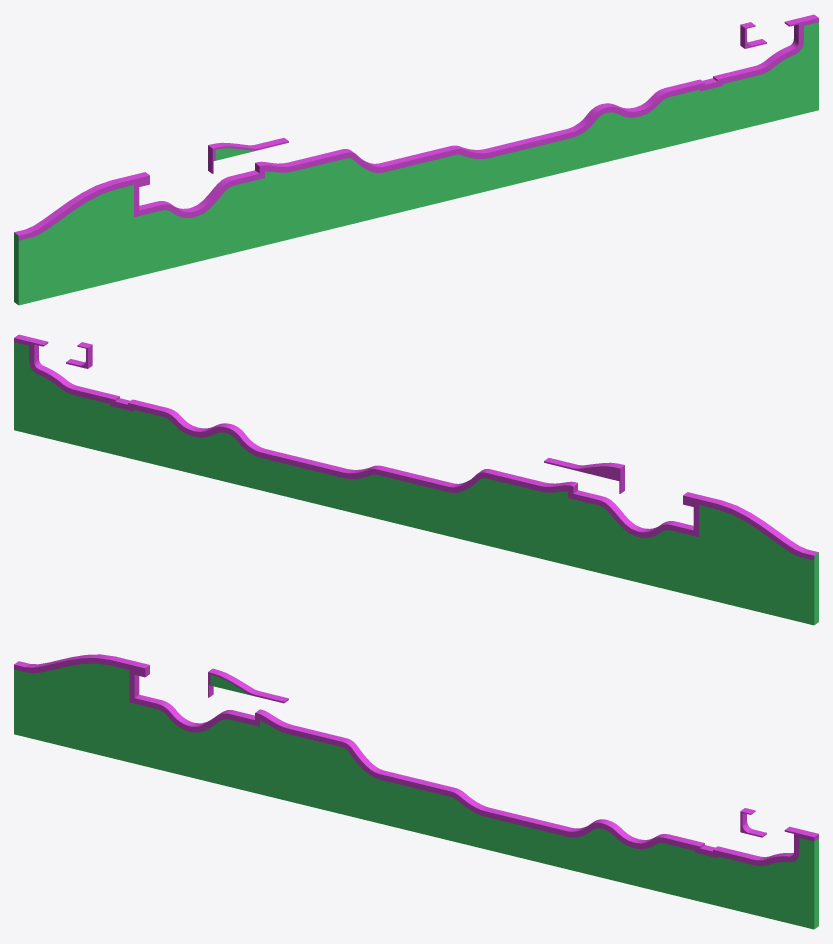
File: StreetMeshB.fbx
3 renders of one model, top to bottom at view 1: azimuth 30°, elevation 25°; view 2: azimuth 150°, elevation 25°; view 3: azimuth 330°, elevation 25°, orthographic.
Visible parts, largest first — view 1: StreetMeshB, StreetPlatform7; view 2: StreetMeshB, StreetPlatform7; view 3: StreetMeshB, StreetPlatform7.
Part boxes in pixels (x1,y1,x2,y2): StreetMeshB: (14,14,818,305); StreetPlatform7: (208,138,288,173); StreetMeshB: (14,334,818,625); StreetPlatform7: (544,458,624,493); StreetMeshB: (14,654,818,929); StreetPlatform7: (208,668,288,703).
Bounding box in the file's own units: 97.21 × 12.72 × 1.
